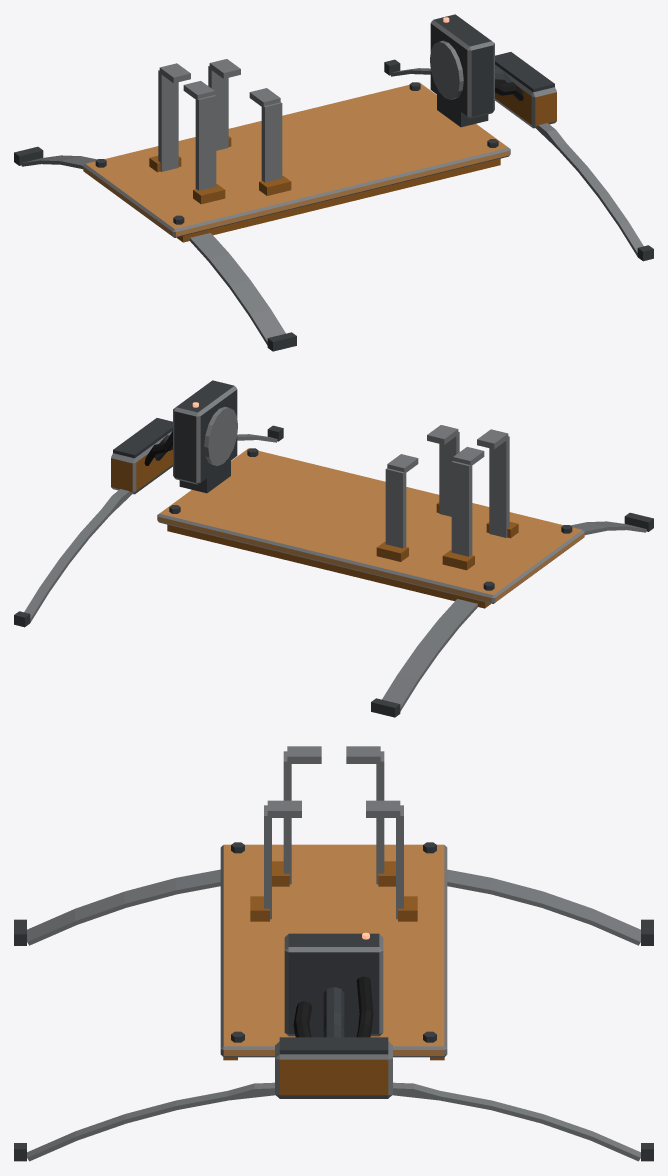
The model's file is dish_transmitter_cradle.fbx.
3 renders of one model, top to bottom at view 1: azimuth 30°, elevation 25°; view 2: azimuth 150°, elevation 25°; view 3: azimuth 270°, elevation 25°, orthographic. The views are drawn at different scales.
Visible parts, largest first — view 1: DishTransmitterCradle; view 2: DishTransmitterCradle; view 3: DishTransmitterCradle.
Boxes of the visible parts, box(x1,y1,x2,y2) form: DishTransmitterCradle: box(14, 14, 653, 351); DishTransmitterCradle: box(14, 380, 653, 717); DishTransmitterCradle: box(14, 746, 653, 1161).
Bounding box in the file's own units: 177 × 69.59 × 195.
